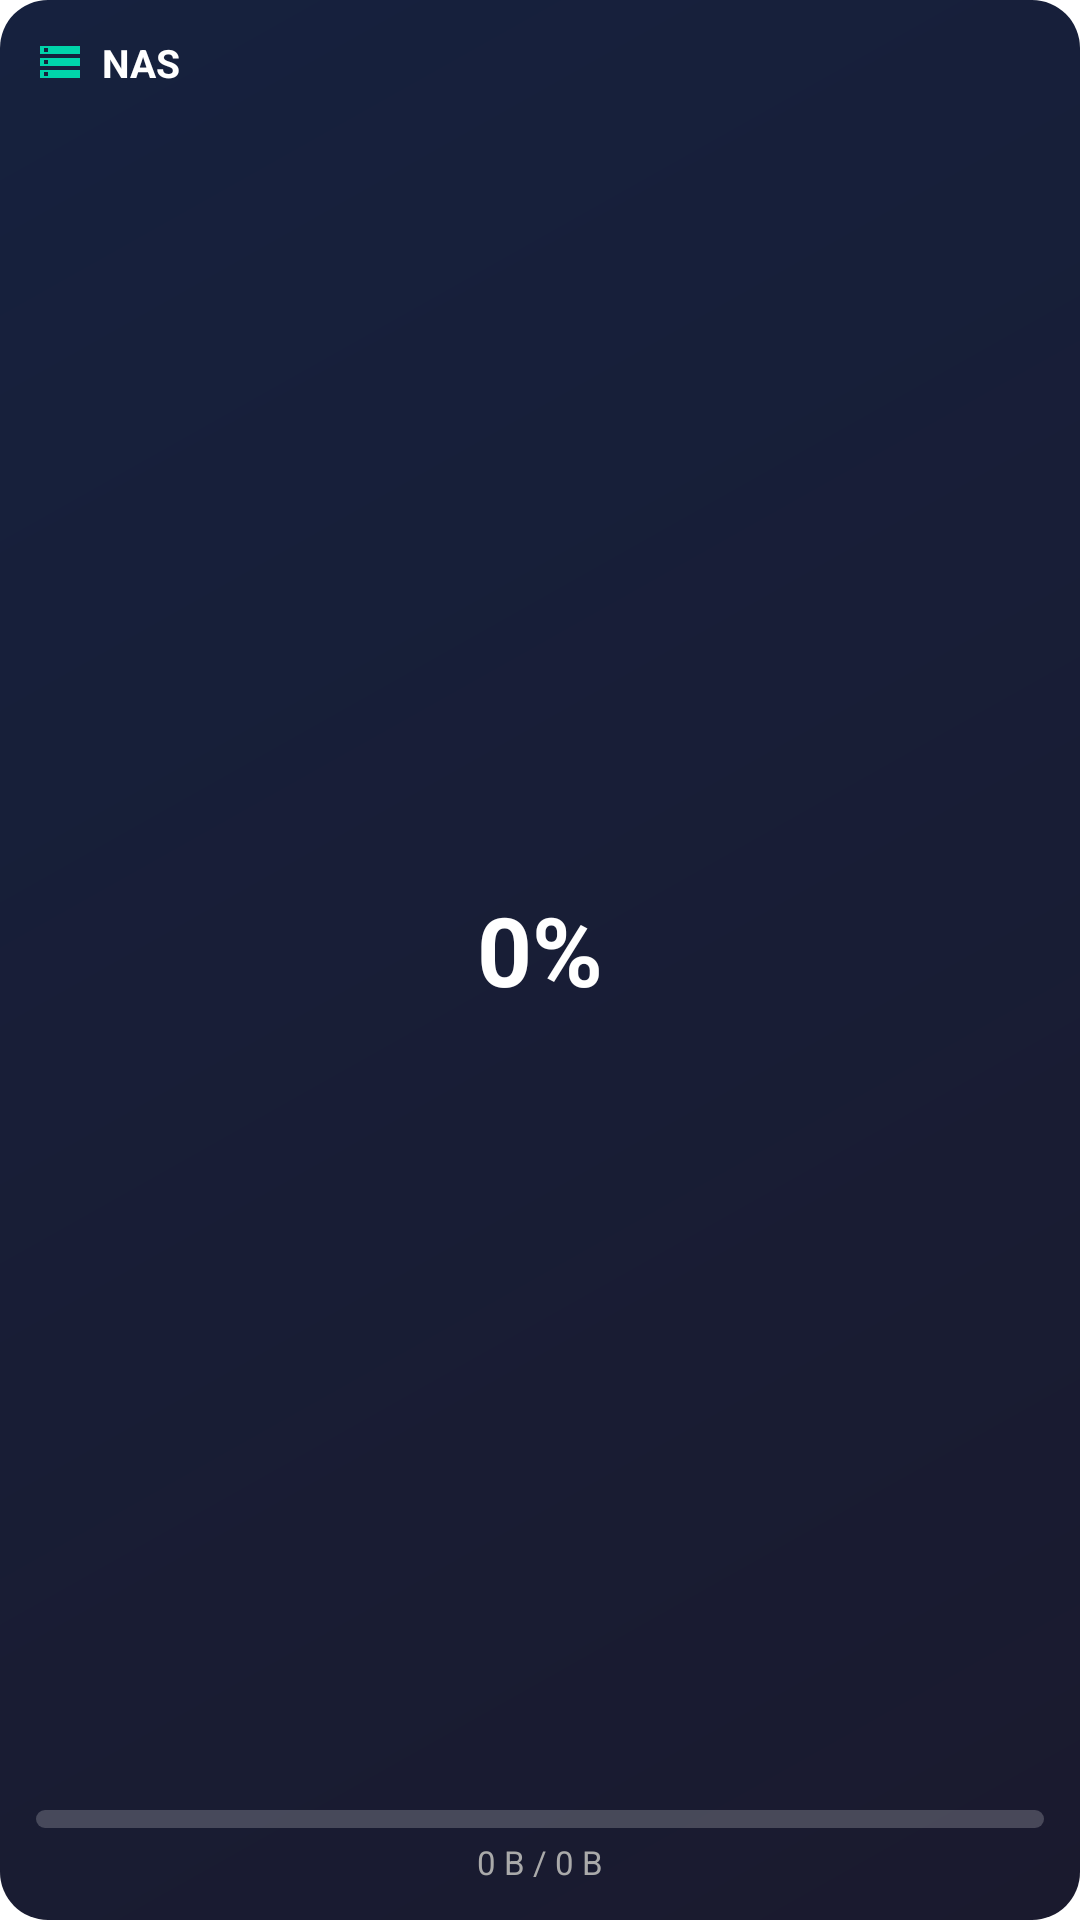

Locate icon controls on the screen. Image size 1080px×1920px, boxes as Rect(x1, y1, x2, y2).
存储: Rect(40, 46, 80, 78)
